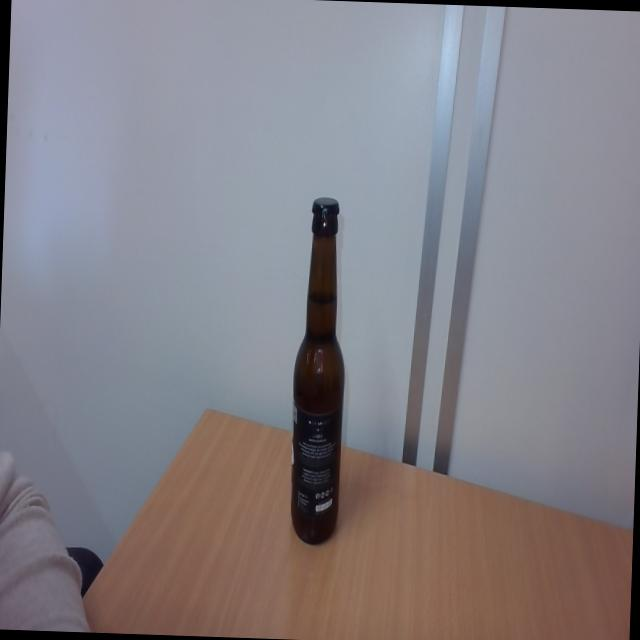Bottle: (286, 225, 348, 543)
Cap: (308, 190, 341, 225)
Label: (289, 404, 341, 522)
